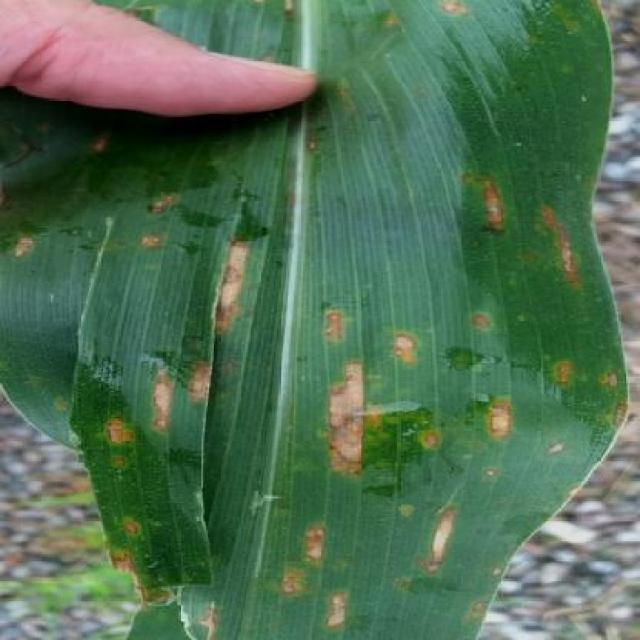Corn_Grey_Leaf_Spot: (0, 126, 625, 640)
